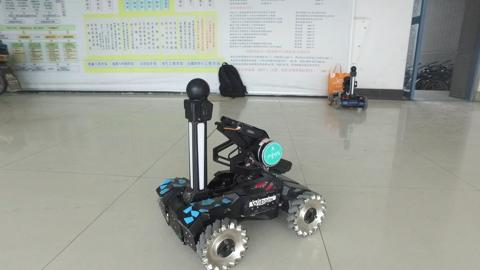bag: (216, 60, 249, 100), (328, 62, 351, 97)
chariot: (153, 75, 326, 270), (325, 65, 366, 110)
